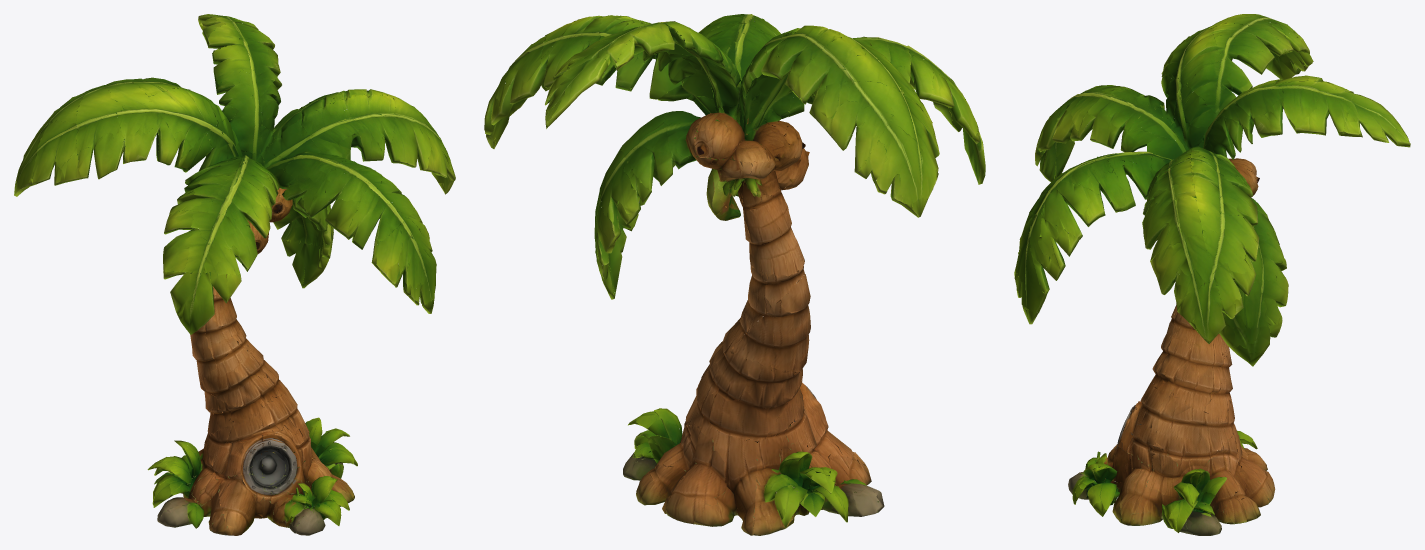
Rendered from palm.glb.
The picture shows the model from 3 angles, left to right: view 1: azimuth 30°, elevation 25°; view 2: azimuth 150°, elevation 25°; view 3: azimuth 270°, elevation 25°; orthographic projection. The views are drawn at different scales.
Visible parts, largest first — view 1: Mesh_0; view 2: Mesh_0; view 3: Mesh_0.
Part boxes in pixels (x1=…): Mesh_0: x1=14, y1=14, x2=455, y2=535; Mesh_0: x1=484, y1=14, x2=985, y2=535; Mesh_0: x1=1014, y1=14, x2=1410, y2=535.
Size of the model in its own units: 4.96 by 5 by 4.21.
1 material, 1 textured.
